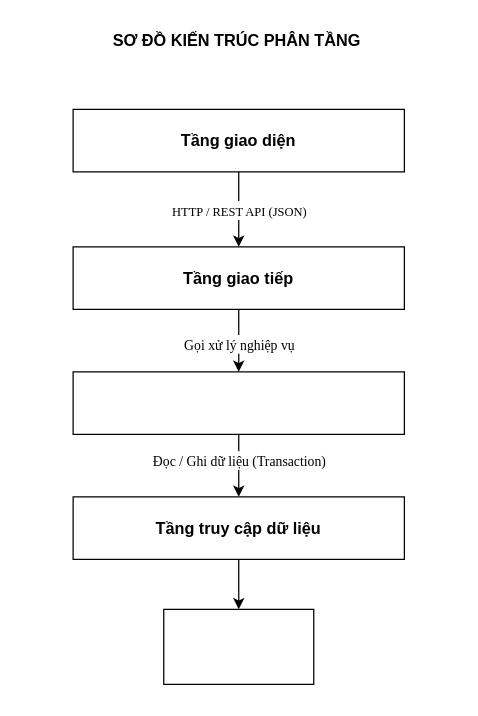
The diagram is 478 pixels wide and 716 high, and some of its shapes have lost their labels. The box of each missing label's shape, as (x1, y1, x2, y2) in pixels:
Cơ sở dữ liệu: (162, 608, 314, 684)
Tầng nghiệp vụ: (72, 371, 404, 434)
